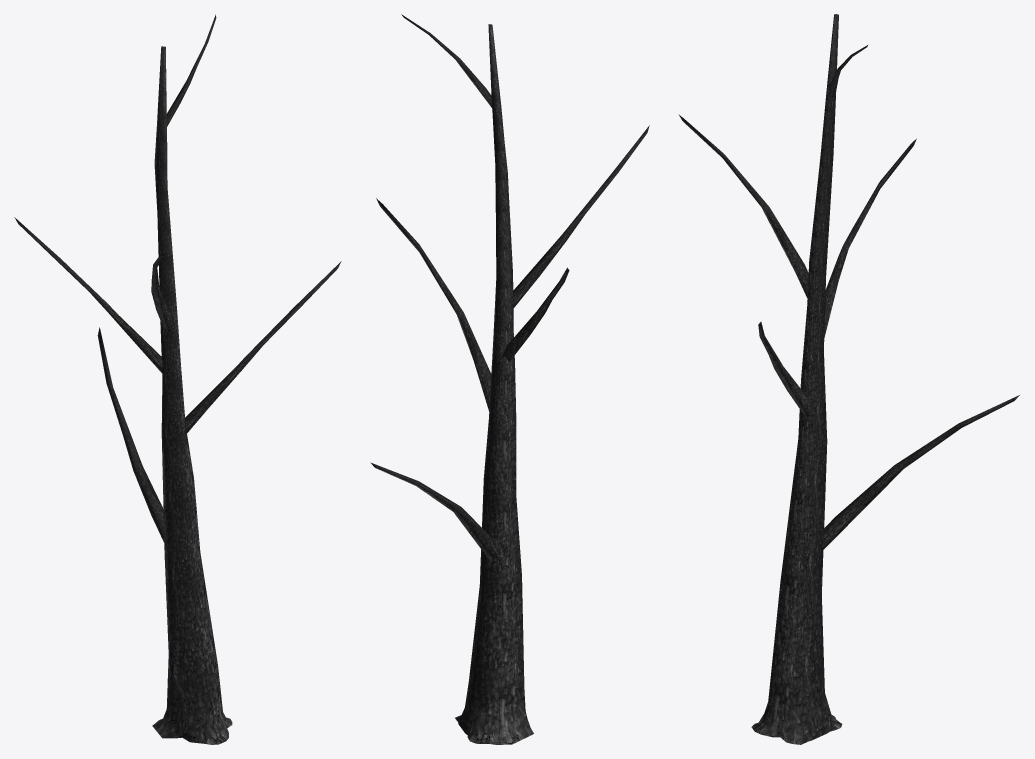
The model's file is tree_9.glb.
3 views of the same model, side by side, from view 1: azimuth 30°, elevation 25°; view 2: azimuth 150°, elevation 25°; view 3: azimuth 270°, elevation 25° (orthographic). The views are drawn at different scales.
Visible parts, largest first — view 1: tree_9; view 2: tree_9; view 3: tree_9.
Part boxes in pixels (box(x1,y1,x2,y2)): tree_9: box(14, 14, 341, 744); tree_9: box(370, 14, 649, 744); tree_9: box(678, 14, 1019, 744).
Size of the model in its own units: 1.75 by 4.47 by 1.96.
1 material, 1 textured.
